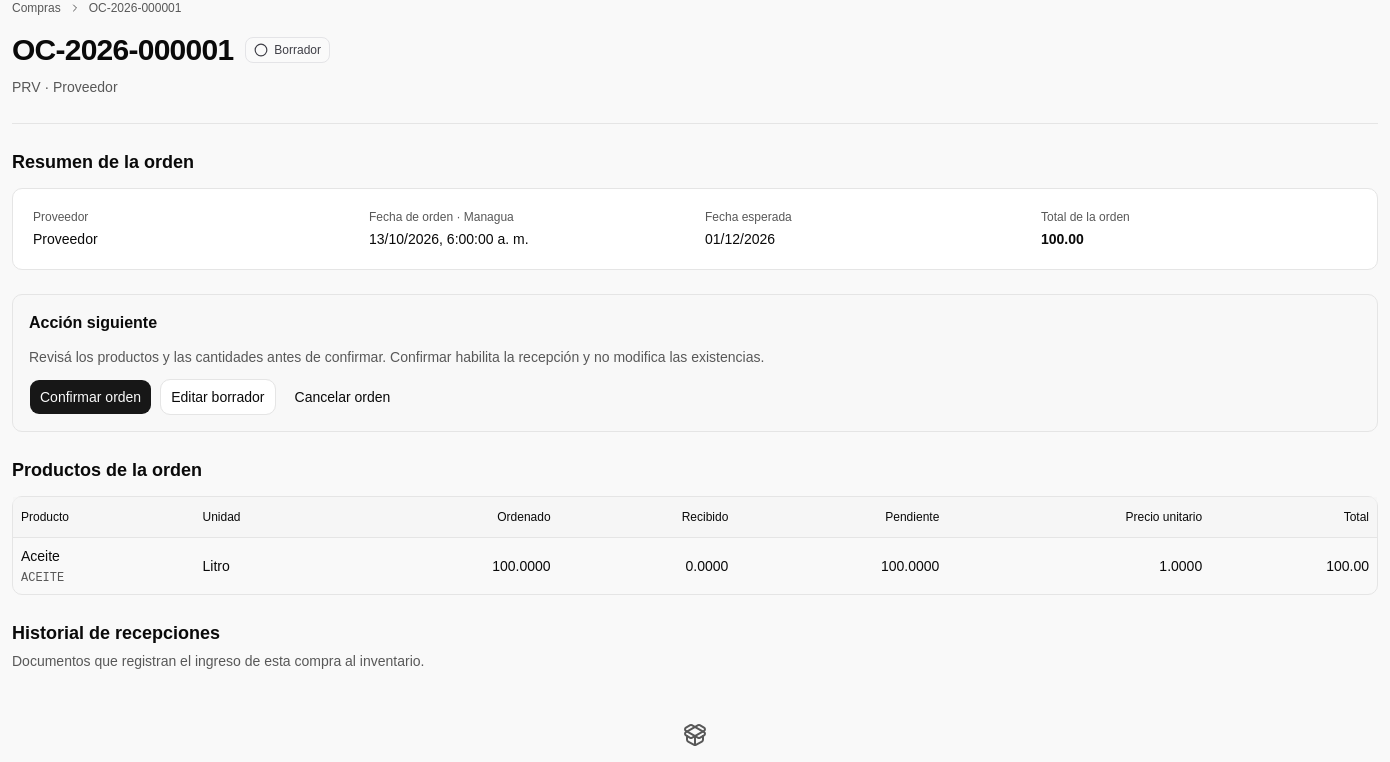
Test: Purchase UI › edits draft and clears expected date without losing historical product/supplier selection
Click the button "Editar borrador".
click(218, 397)  # box x1=160 y1=379 x2=276 y2=415
(page scrolled)
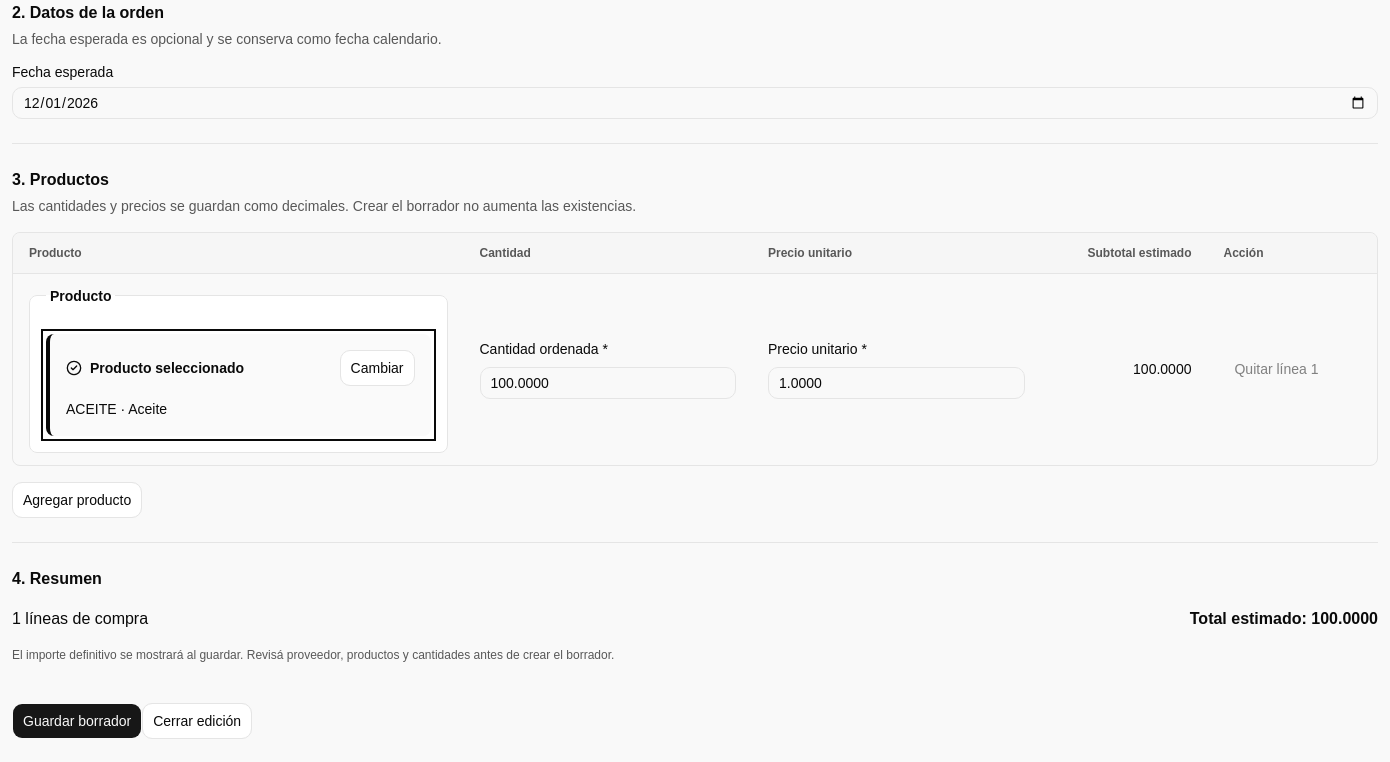
Replace the text in the field labelled "Cantidad ordenada" with "90" at (608, 383), box x1=480 y1=367 x2=736 y2=399
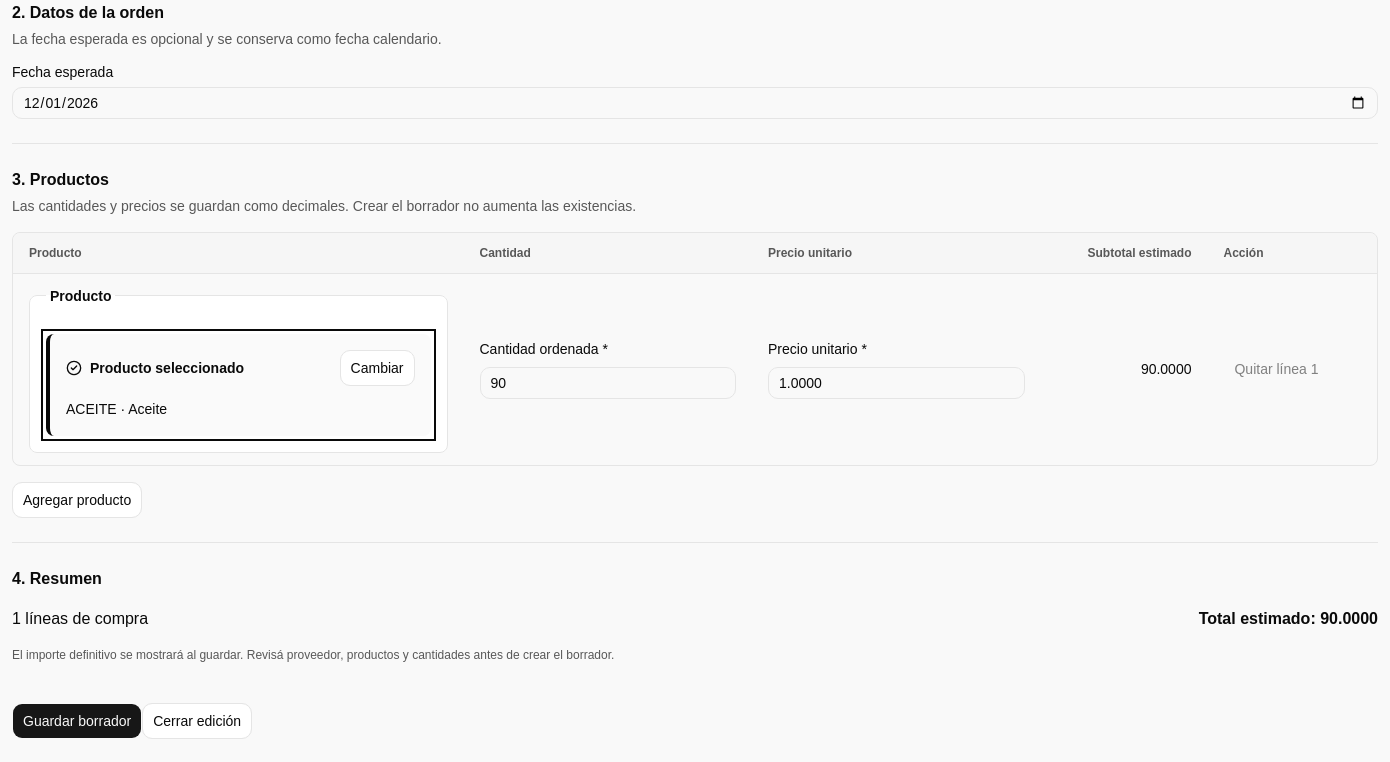
Clear the date field labelled "Fecha esperada" at (695, 102), box x1=12 y1=86 x2=1378 y2=118
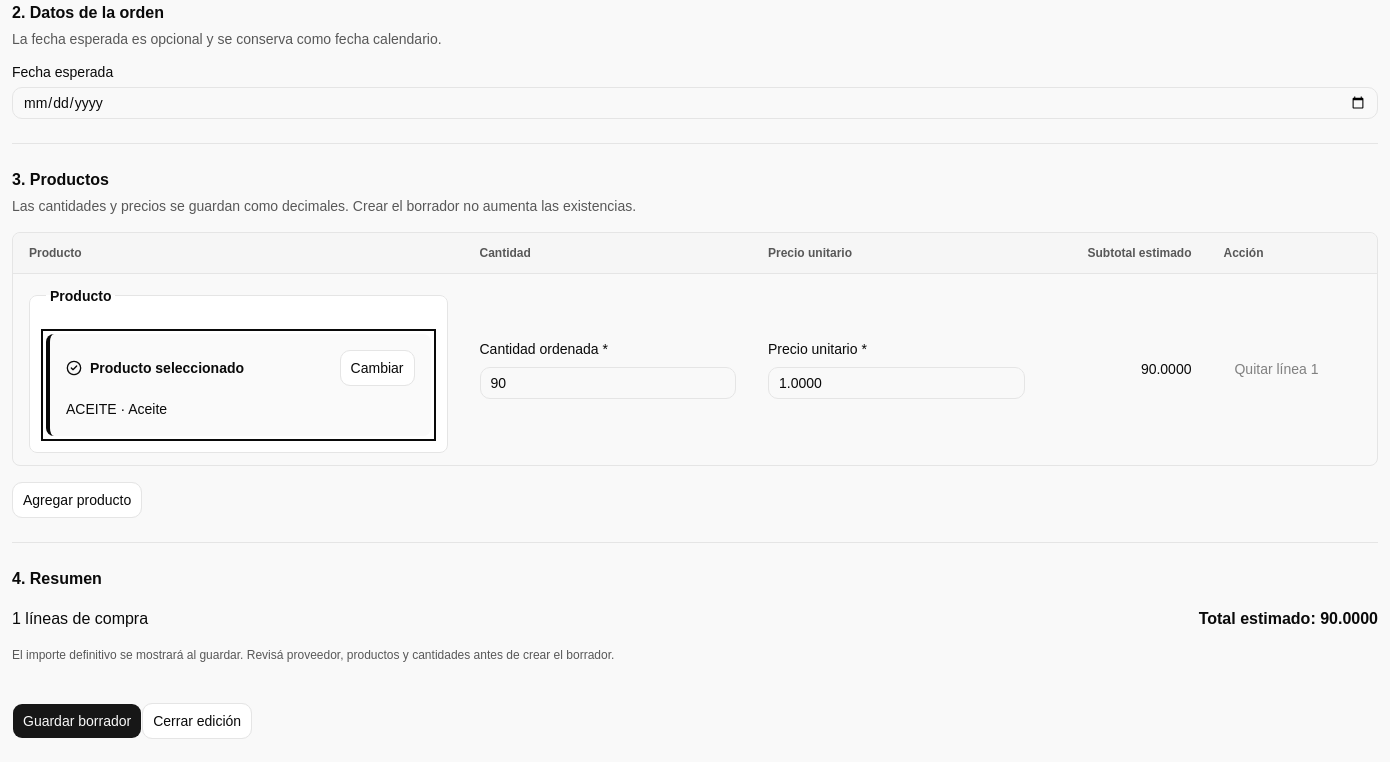
Click the button "Guardar borrador".
click(77, 721)  # box x1=12 y1=703 x2=142 y2=739
(page scrolled)
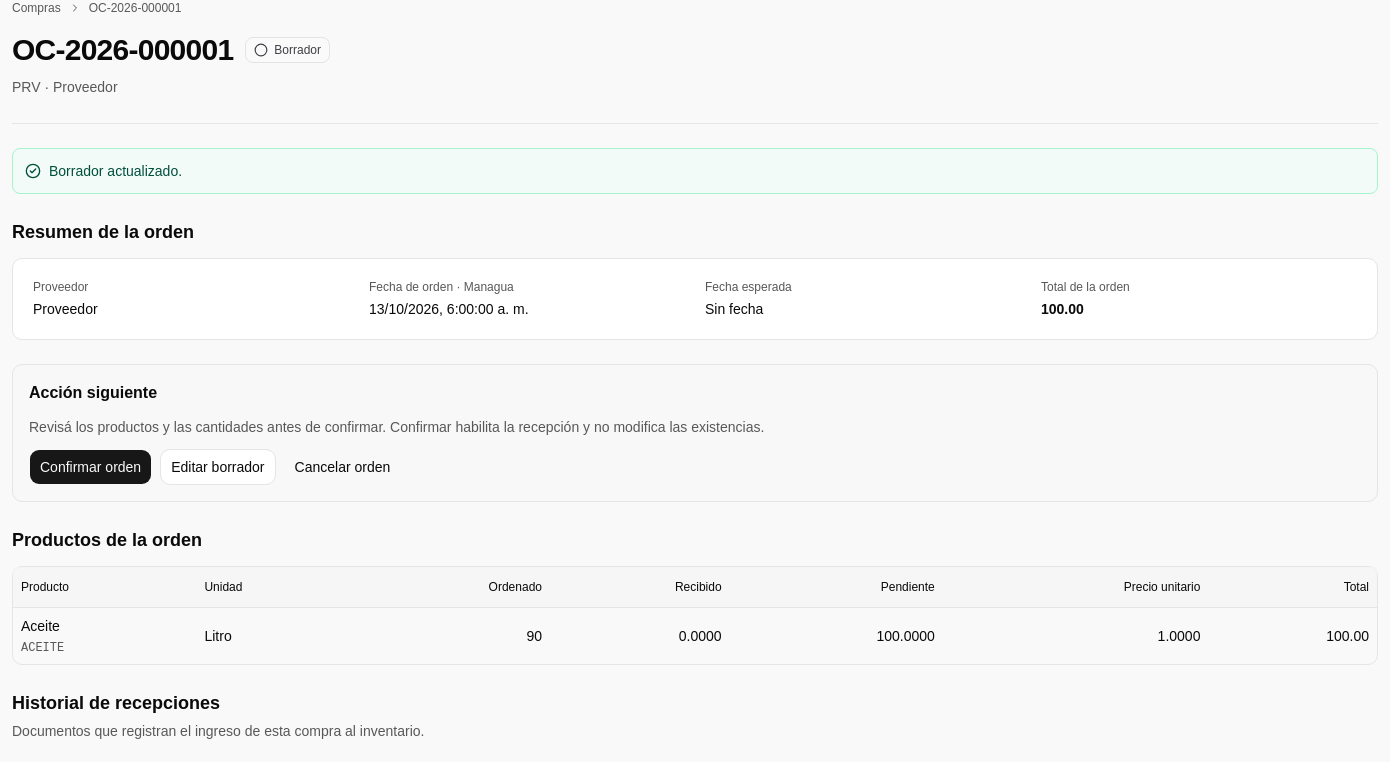
Now the text "Borrador actualizado." is shown, box x1=49 y1=161 x2=182 y2=181
